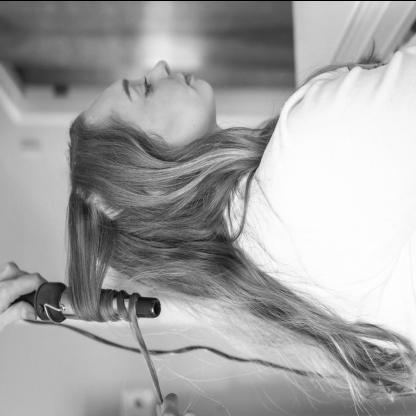Eye: (135, 81, 154, 97)
Mouth: (180, 72, 193, 85)
Nose: (145, 59, 171, 78)
